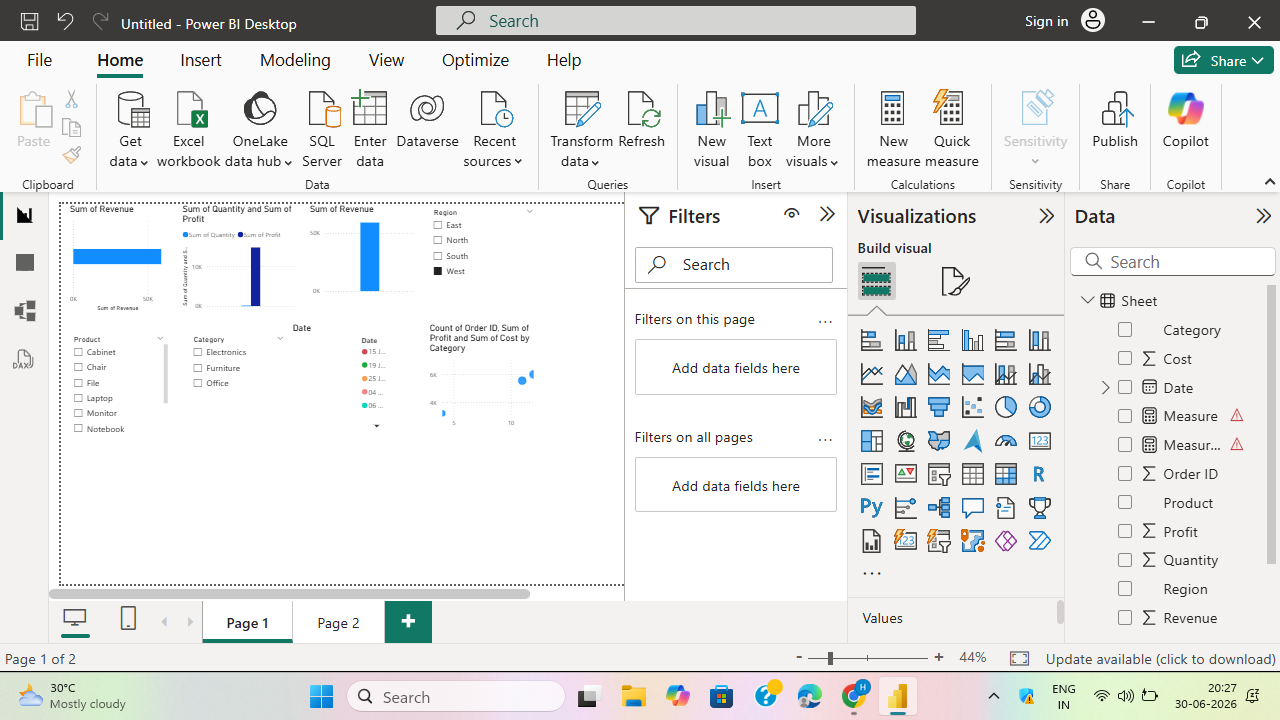

Layout of this report page (visuals, bound fields, positions):
{"tool":"powerbi","page":{"name":"Page 1","canvas":[1280,720],"ordinal":0},"visuals":[{"type":"barChart","fields":{"Y":["Sum(Sheet.Revenue)"]},"box":[12,0,196,208],"z":0},{"type":"clusteredColumnChart","fields":{"Y":["Sum(Sheet.Quantity)","Sum(Sheet.Profit)"]},"box":[224,0,224,208],"z":1000},{"type":"clusteredColumnChart","fields":{"Y":["Sum(Sheet.Revenue)"]},"box":[466,0,210,180],"z":2000},{"type":"slicer","fields":{"Values":["Sheet.Region"]},"box":[694,2,214,178],"z":3000},{"type":"slicer","fields":{"Values":["Sheet.Product"]},"box":[12,244,196,208],"z":4000},{"type":"slicer","fields":{"Values":["Sheet.Category"]},"box":[238,244,196,208],"z":5000},{"type":"donutChart","fields":{"Category":["Sheet.Date"]},"box":[434,224,196,208],"z":6000},{"type":"scatterChart","fields":{"X":["CountNonNull(Sheet.Order ID)"],"Y":["Sum(Sheet.Profit)"],"Size":["Sum(Sheet.Cost)"],"Category":["Sheet.Category"]},"box":[694,224,214,208],"z":7000}]}

Visuals, with their boxes on the page's 1280x720 design canvas (x1, y1, x2, y2). These are canvas units, not pixel positions in the 1280x720 screenshot, which may show the page scaled, cropped or inside an application window:
barChart - Sum(Sheet.Revenue): 12/0/208/208
clusteredColumnChart - Sum(Sheet.Quantity) x Sum(Sheet.Profit): 224/0/448/208
clusteredColumnChart - Sum(Sheet.Revenue): 466/0/676/180
slicer - Sheet.Region: 694/2/908/180
slicer - Sheet.Product: 12/244/208/452
slicer - Sheet.Category: 238/244/434/452
donutChart - Sheet.Date: 434/224/630/432
scatterChart - CountNonNull(Sheet.Order ID) x Sum(Sheet.Profit): 694/224/908/432
